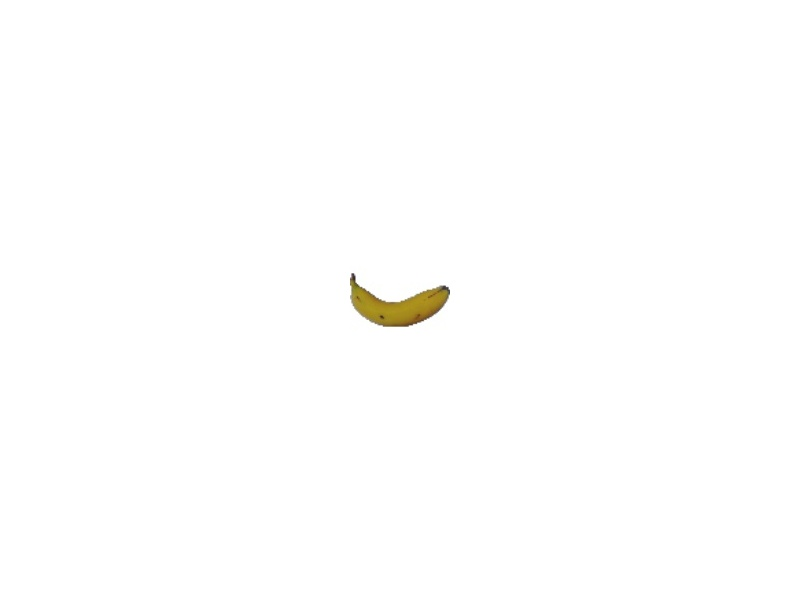banana: (346, 270, 453, 330)
